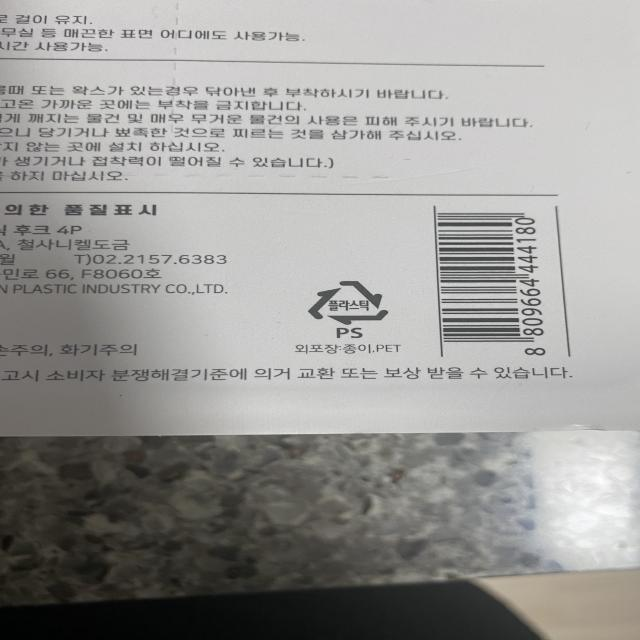Plastic: (304, 276, 391, 328)
